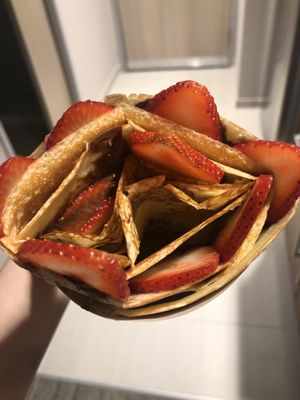soup: (0, 96, 279, 301)
